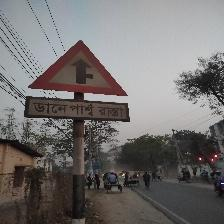Side-road-right: (26, 40, 130, 123)
